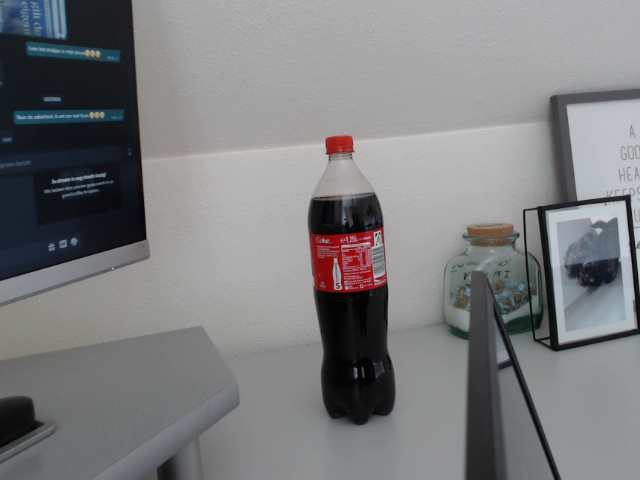bottle: (307, 136, 396, 426)
